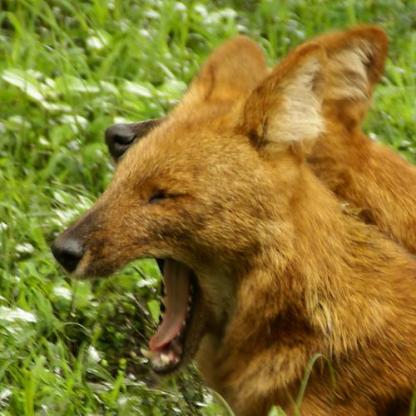dhole: (50, 26, 413, 413), (102, 20, 414, 253)
